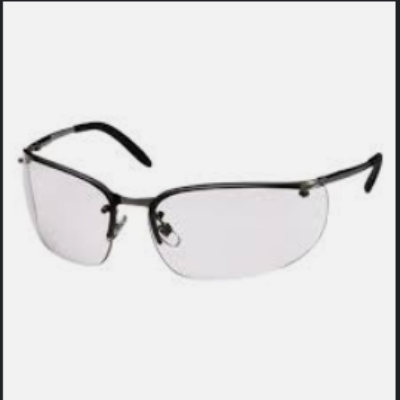glasses: (19, 119, 386, 285)
